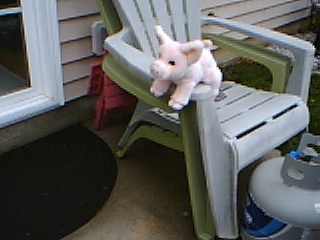piggy: (148, 24, 222, 112)
